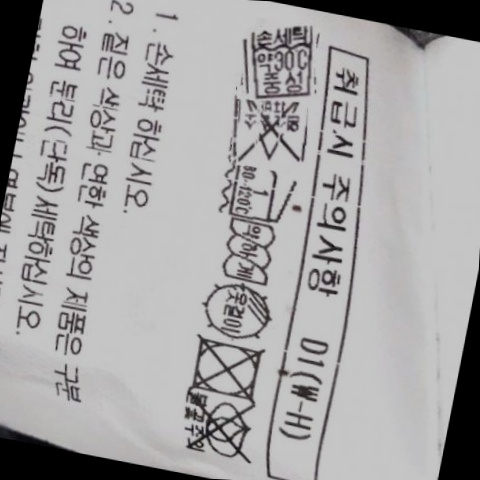DN_tumble_dry: (182, 333, 269, 402)
hand_wash: (240, 25, 321, 99)
iron_low: (224, 162, 294, 225)
line_dry_in_shade: (197, 281, 279, 341)
wring: (219, 218, 277, 287)
